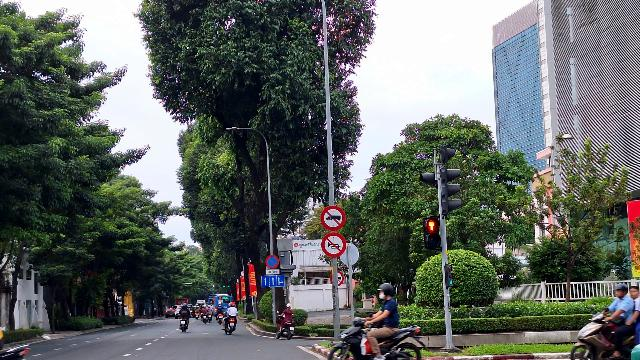cam-bop-coi: (321, 233, 346, 258)
cam-do-xe: (265, 255, 279, 269)
